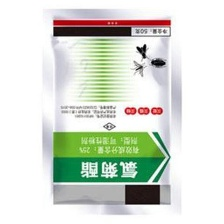insecticide: (35, 5, 186, 222)
